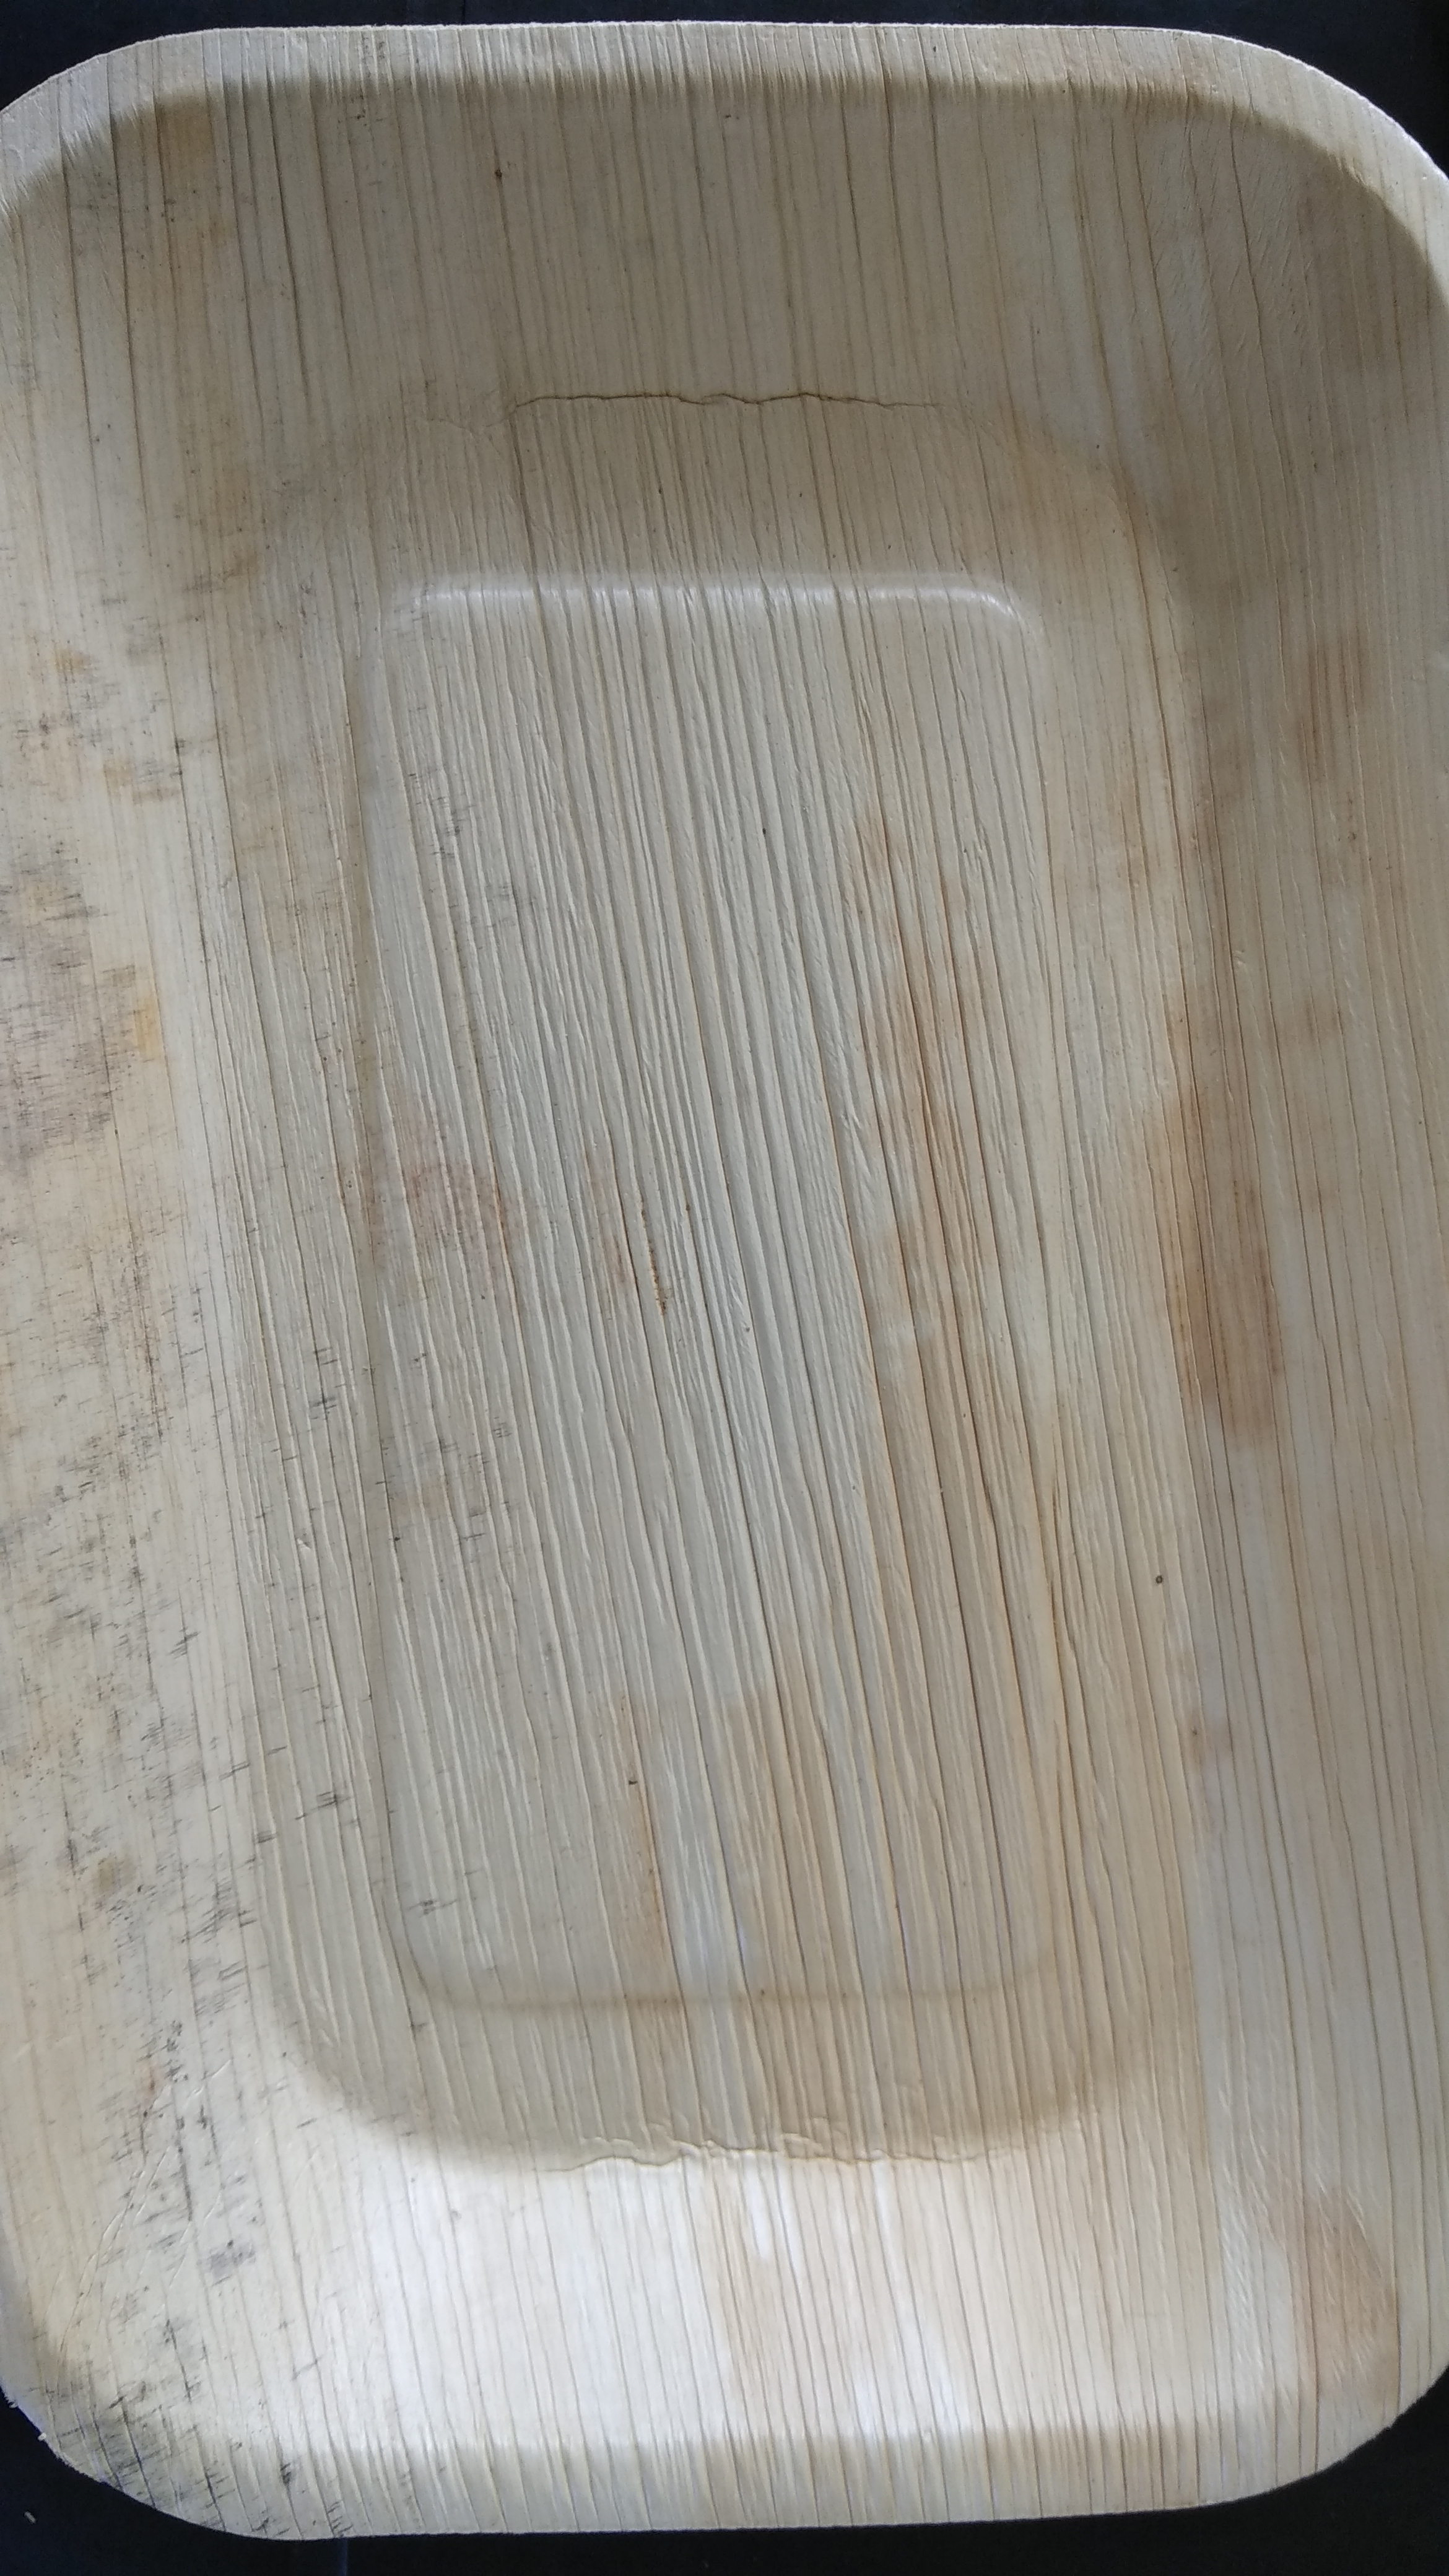areca plate: (4, 25, 1449, 2539)
